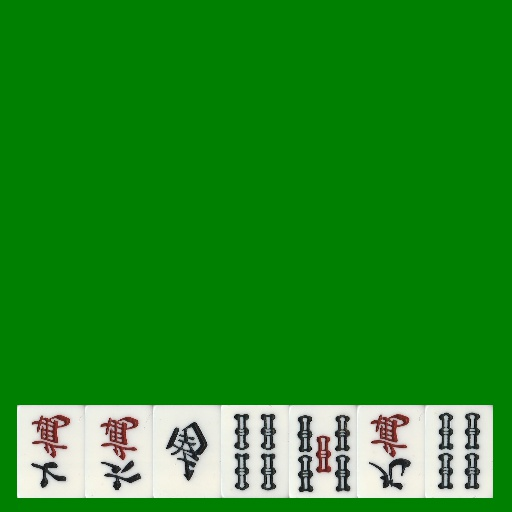4s: (221, 405, 289, 498), (425, 405, 493, 498)
5s: (289, 405, 357, 498)
6m: (85, 405, 153, 498)
7m: (17, 405, 85, 498)
9m: (357, 405, 425, 498)
south: (153, 405, 221, 498)
